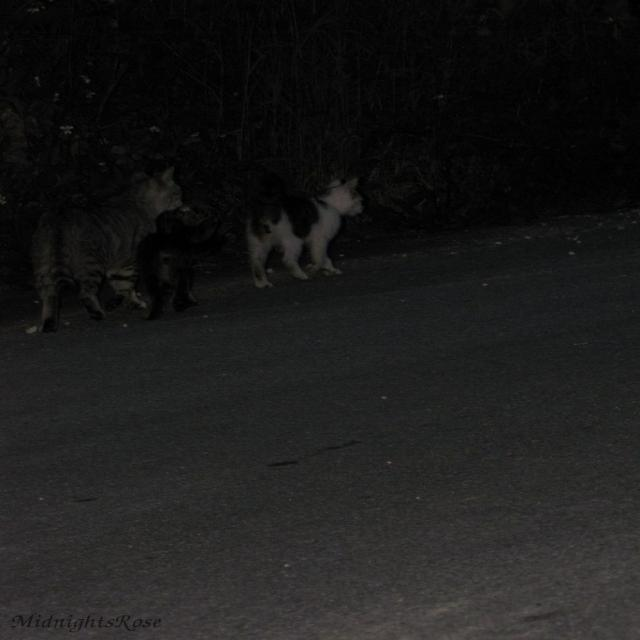Cat: (10, 151, 189, 333), (231, 159, 383, 278), (135, 196, 216, 321)
